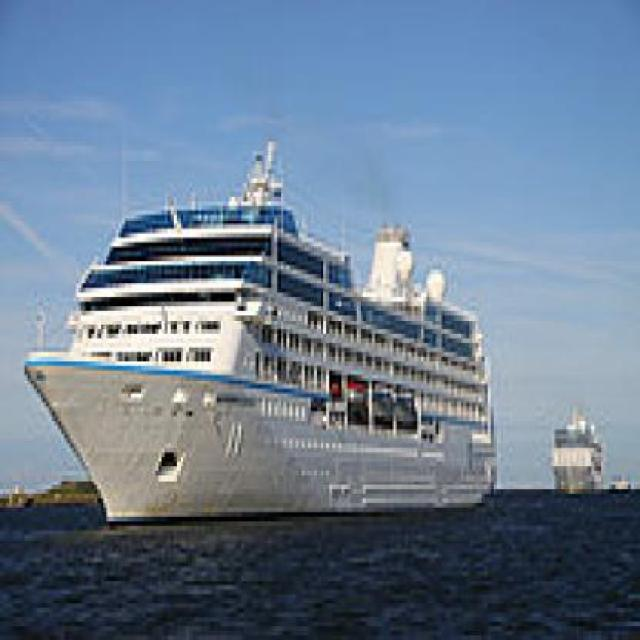cruise: (23, 120, 507, 546)
